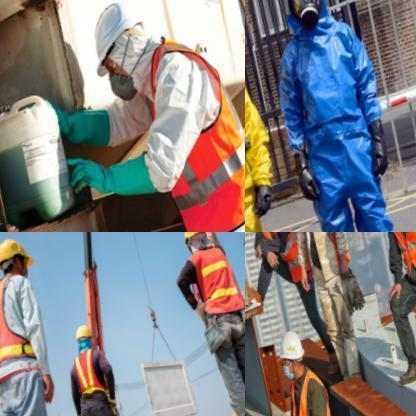Boots: (0, 237, 36, 271)
Glass: (87, 28, 241, 231), (0, 249, 55, 394), (176, 232, 244, 319), (285, 367, 337, 415), (71, 347, 110, 397)
